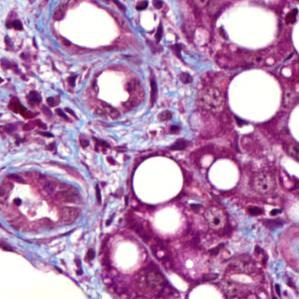steatosis: (227, 71, 285, 121), (134, 157, 182, 201), (207, 153, 242, 193)
